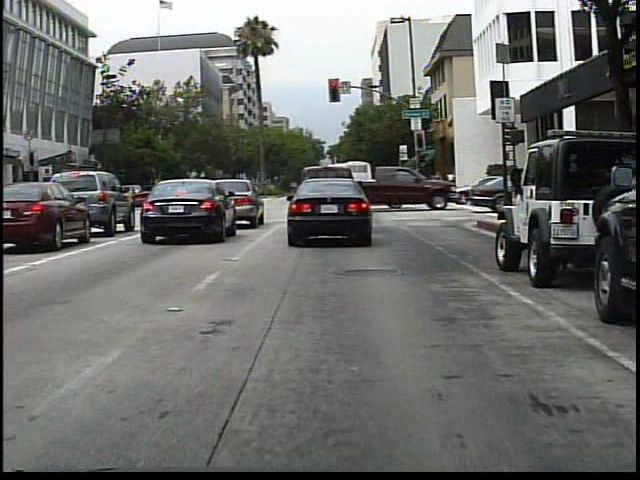person: (427, 166, 443, 198), (444, 167, 460, 195)
